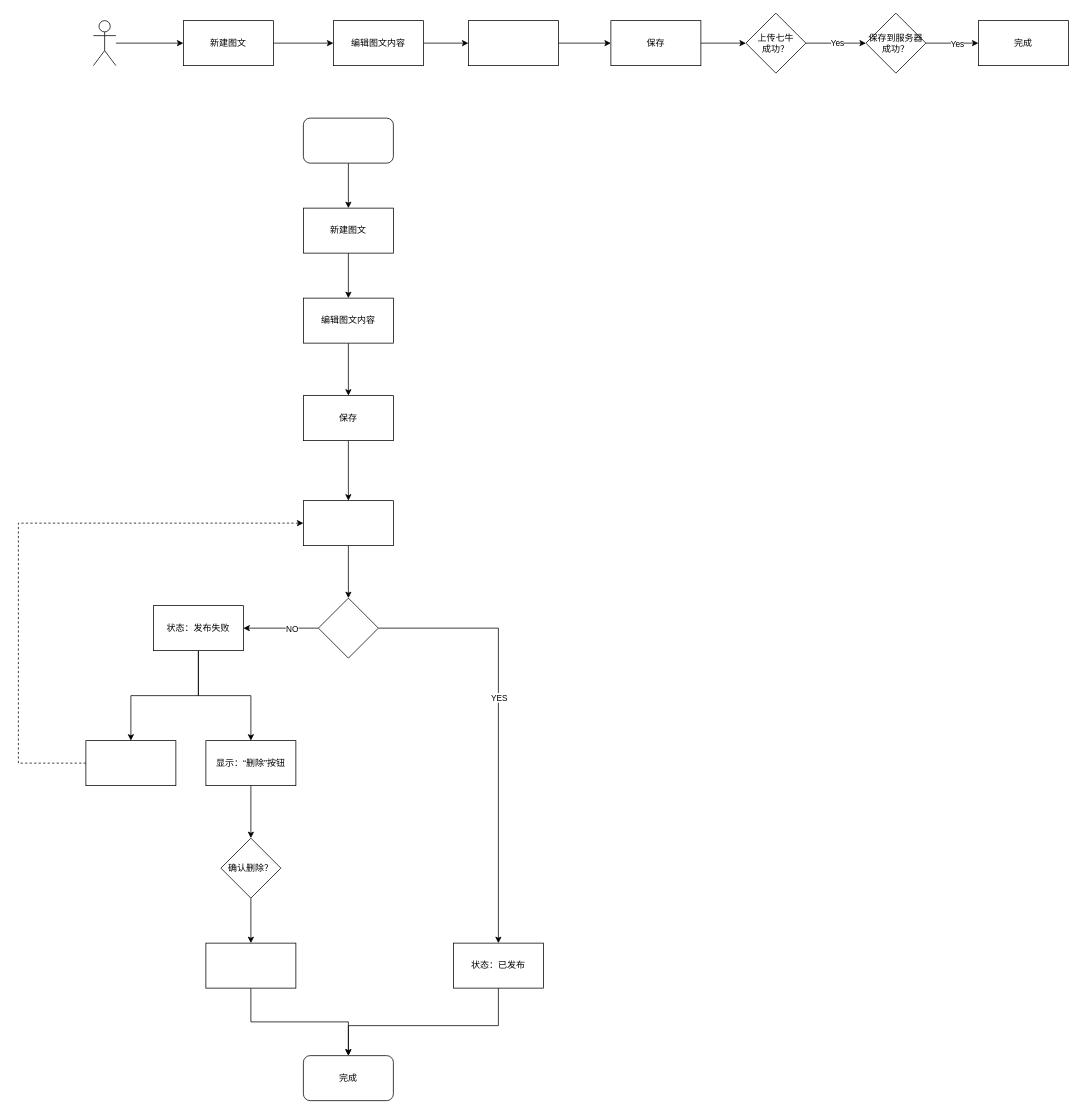
The diagram is 1082 pixels wide and 1114 high, and some of its shapes have lost their labels. The box of each missing label's shape, as (x1, y1, x2, y2) in pixels:
Actor: (93, 20, 116, 66)
上传图片: (468, 20, 558, 66)
保存成功？: (318, 597, 378, 658)
删除图文: (205, 942, 296, 988)
开始: (303, 117, 393, 163)
显示：“重试”按钮: (85, 740, 176, 786)
状态：发布中: (303, 500, 393, 546)
